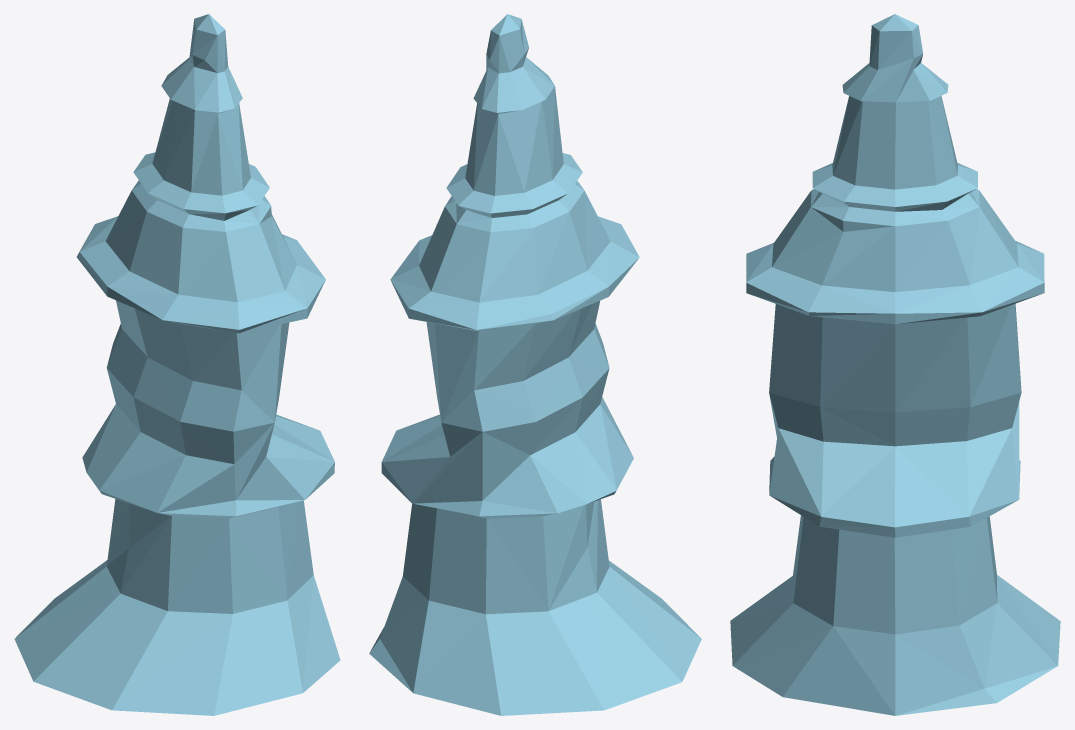
File: SM_RockPillar_V1.FBX
3 views of the same model, side by side, from view 1: azimuth 30°, elevation 25°; view 2: azimuth 150°, elevation 25°; view 3: azimuth 270°, elevation 25° (orthographic). The views are drawn at different scales.
Visible parts, largest first — view 1: RockPilar; view 2: RockPilar; view 3: RockPilar.
Boxes of the visible parts, x1,y1,x2,y2 form: RockPilar: [14, 14, 340, 715]; RockPilar: [369, 14, 701, 715]; RockPilar: [730, 14, 1060, 715].
Size of the model in its own units: 37.44 by 77.99 by 35.86.
